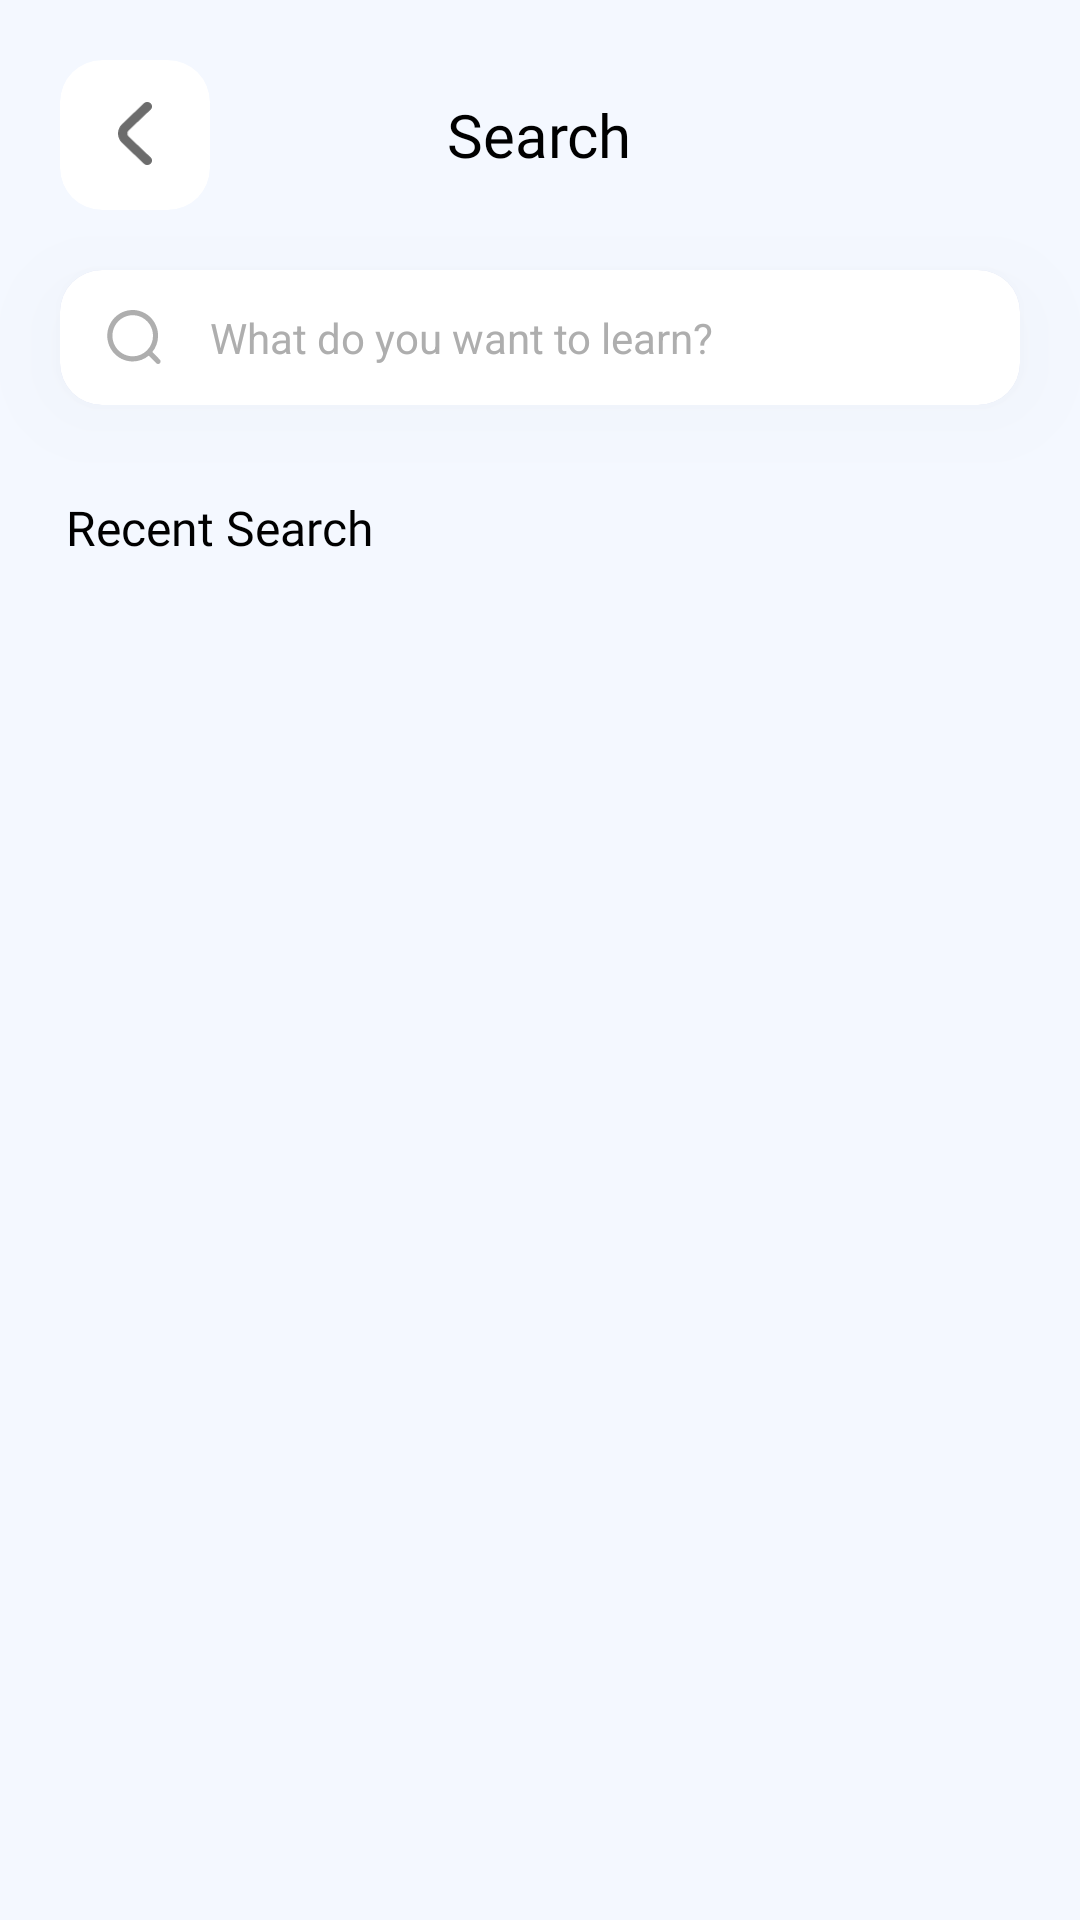

Point at icon controls on the screen. Image size 1080 × 1920, points as (x=x, y=y).
back: (x=135, y=133)
